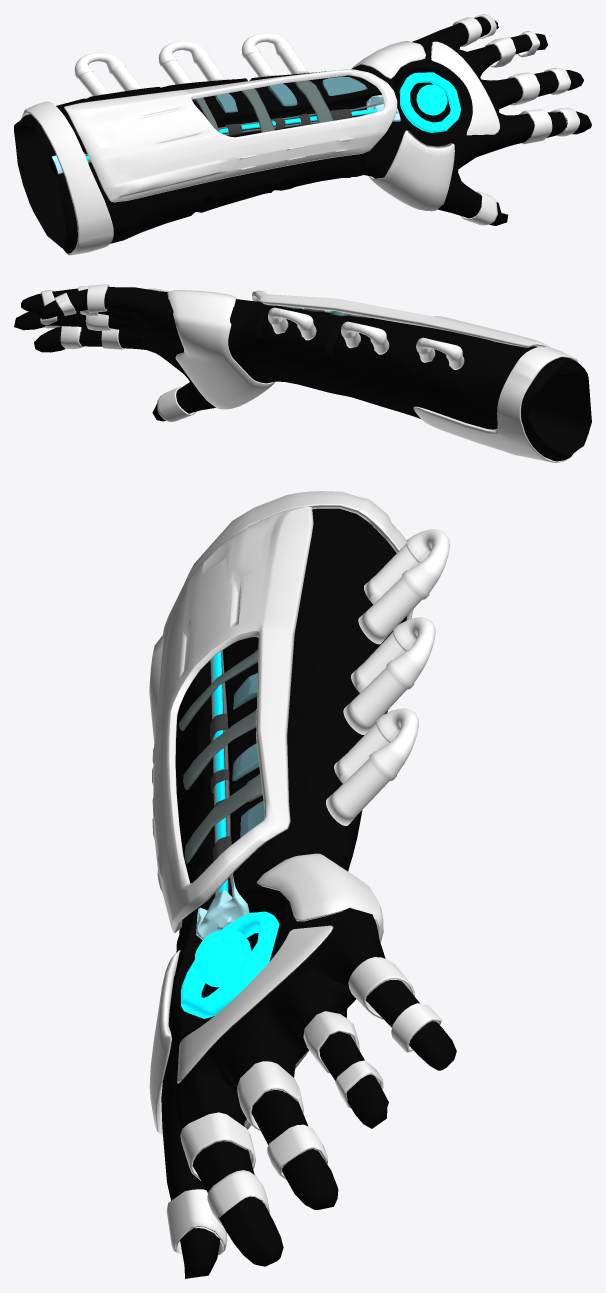
The picture shows the model from 3 angles, top to bottom: view 1: azimuth 30°, elevation 25°; view 2: azimuth 150°, elevation 25°; view 3: azimuth 270°, elevation 25°; orthographic projection. The views are drawn at different scales.
Parts seen in each view (by area): view 1: hand_basemesh6, polySurface1, polySurface30, polySurface9, polySurface31, pTorus1, pCylinder10, pCylinder8, pCylinder9, pSphere1, polySurface7, polySurface26 (+10 smaller); view 2: hand_basemesh6, polySurface30, polySurface9, polySurface1, pCylinder9, pCylinder10, pCylinder8, polySurface25, polySurface29, polySurface21, polySurface26, polySurface27 (+1 smaller); view 3: hand_basemesh6, polySurface1, polySurface30, pCylinder10, pCylinder8, pCylinder9, polySurface31, polySurface9, pTorus1, pSphere1, polySurface26, polySurface25 (+10 smaller).
Boxes of the visible parts, x1=… form: hand_basemesh6: x1=14, y1=17, x2=591, y2=253; polySurface1: x1=64, y1=69, x2=397, y2=202; polySurface30: x1=351, y1=41, x2=454, y2=211; polySurface9: x1=21, y1=101, x2=113, y2=255; polySurface31: x1=431, y1=41, x2=499, y2=135; pTorus1: x1=399, y1=72, x2=460, y2=132; pCylinder10: x1=241, y1=33, x2=309, y2=77; pCylinder8: x1=74, y1=52, x2=142, y2=96; pCylinder9: x1=158, y1=41, x2=225, y2=84; pSphere1: x1=416, y1=84, x2=447, y2=115; polySurface7: x1=294, y1=80, x2=333, y2=122; polySurface26: x1=518, y1=109, x2=552, y2=144; hand_basemesh6: x1=14, y1=287, x2=591, y2=461; polySurface30: x1=167, y1=290, x2=275, y2=409; polySurface9: x1=413, y1=346, x2=579, y2=462; polySurface1: x1=252, y1=290, x2=549, y2=347; pCylinder9: x1=341, y1=321, x2=389, y2=354; pCylinder10: x1=268, y1=307, x2=316, y2=340; pCylinder8: x1=416, y1=337, x2=464, y2=369; polySurface25: x1=157, y1=386, x2=195, y2=421; polySurface29: x1=87, y1=284, x2=109, y2=312; polySurface21: x1=60, y1=326, x2=82, y2=349; polySurface26: x1=101, y1=328, x2=124, y2=349; polySurface27: x1=85, y1=314, x2=111, y2=330; hand_basemesh6: x1=161, y1=508, x2=456, y2=1278; polySurface1: x1=149, y1=506, x2=313, y2=933; polySurface30: x1=149, y1=853, x2=383, y2=1135; pCylinder10: x1=326, y1=708, x2=418, y2=825; pCylinder8: x1=358, y1=529, x2=449, y2=644; pCylinder9: x1=343, y1=617, x2=435, y2=734; polySurface31: x1=177, y1=925, x2=333, y2=1083; polySurface9: x1=163, y1=491, x2=413, y2=633; pTorus1: x1=181, y1=911, x2=279, y2=1018; pSphere1: x1=195, y1=929, x2=251, y2=987; polySurface26: x1=180, y1=1112, x2=255, y2=1180; polySurface25: x1=166, y1=1189, x2=227, y2=1255.
Bounding box in the file's own units: 14.29 × 5.13 × 3.49.
